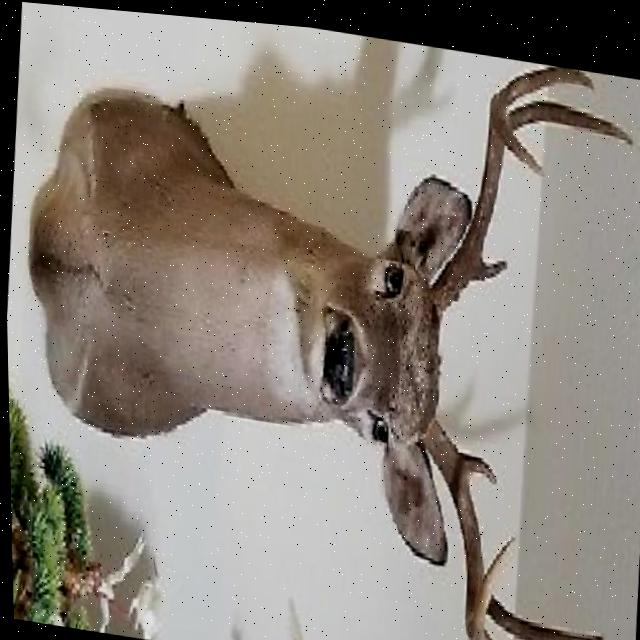L-F: (431, 84, 542, 302)
L-G1: (468, 241, 507, 272)
L-G2: (506, 88, 632, 133)
L-G3: (498, 54, 593, 96)
R-F: (420, 409, 513, 634)
R-G1: (455, 442, 495, 476)
R-G2: (483, 583, 602, 638)
R-G3: (472, 620, 502, 640)
